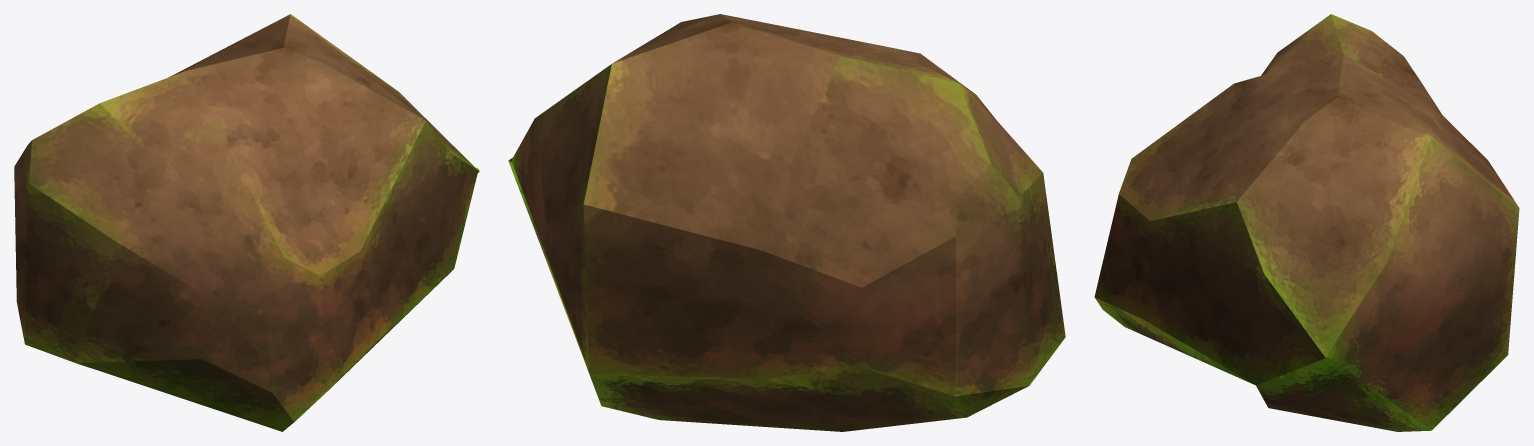
Rendered from Rocas01.fbx.
The picture shows the model from 3 angles, left to right: view 1: azimuth 30°, elevation 25°; view 2: azimuth 150°, elevation 25°; view 3: azimuth 270°, elevation 25°; orthographic projection. The views are drawn at different scales.
Parts seen in each view (by area): view 1: Roca0; view 2: Roca0; view 3: Roca0.
Part boxes in pixels (x1,y1,x2,y2): Roca0: [14, 14, 479, 431]; Roca0: [508, 14, 1065, 431]; Roca0: [1094, 14, 1519, 431].
Size of the model in its own units: 566 by 387 by 467.
